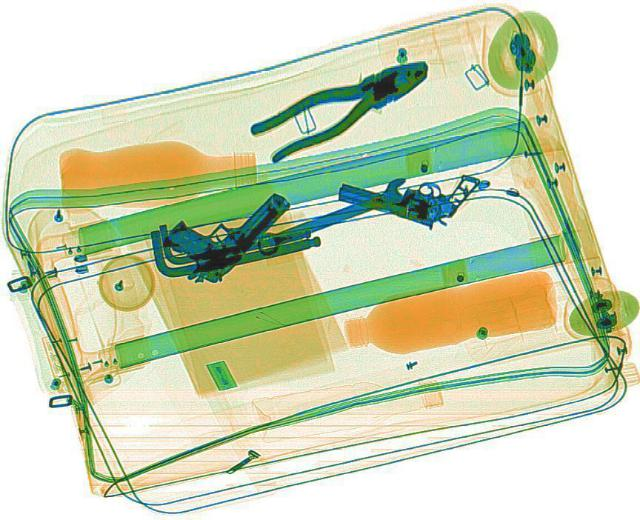Gun: (142, 166, 298, 292), (329, 144, 481, 232)
Pliers: (241, 46, 443, 164)
Wrench: (247, 175, 418, 258)
